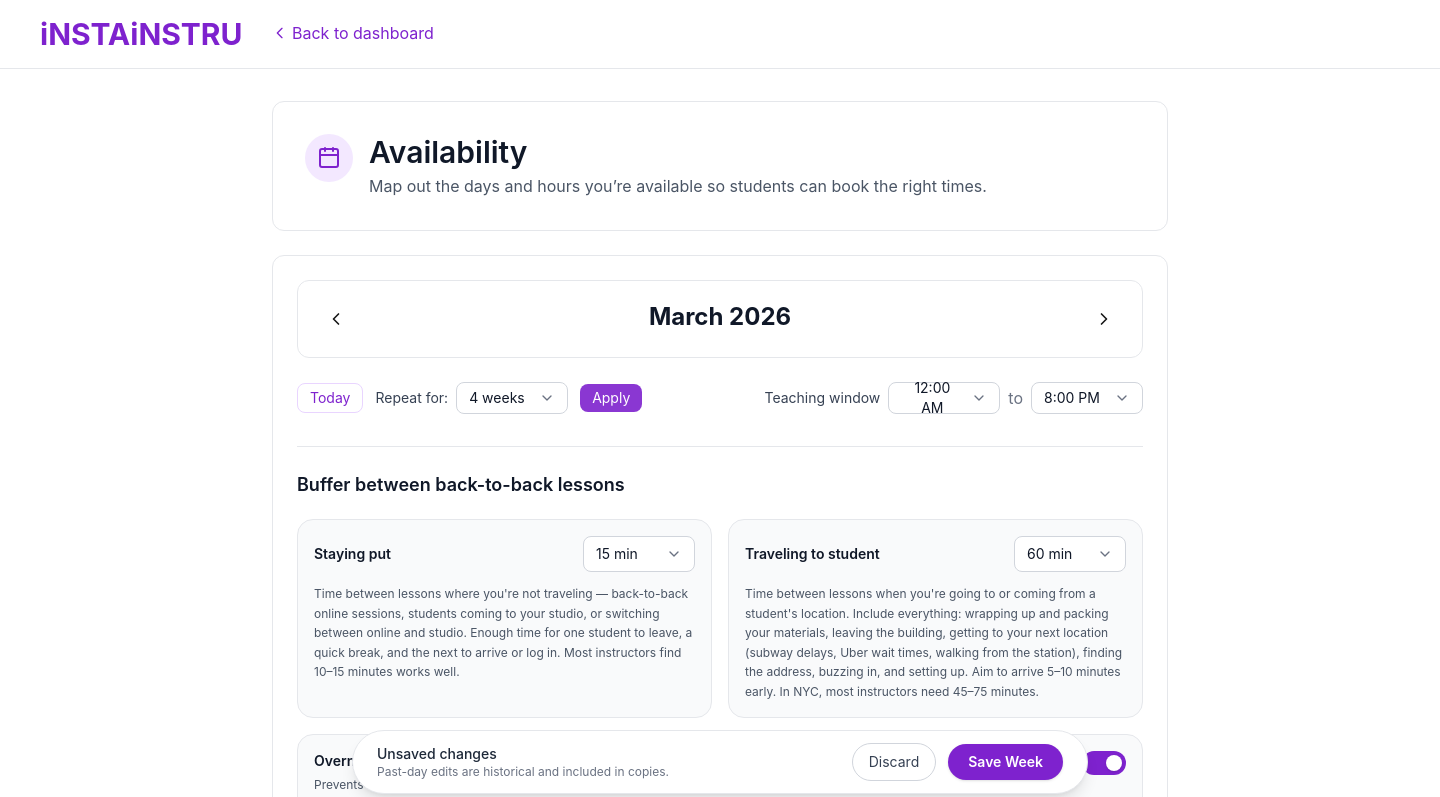
Test: InstructorAvailabilityPage › auto-saves the full settings payload after debounced edits and collapses rapid changes
Click the dropdown named "Staying put buffer".
click(639, 554)  # box 583,536 -> 695,572
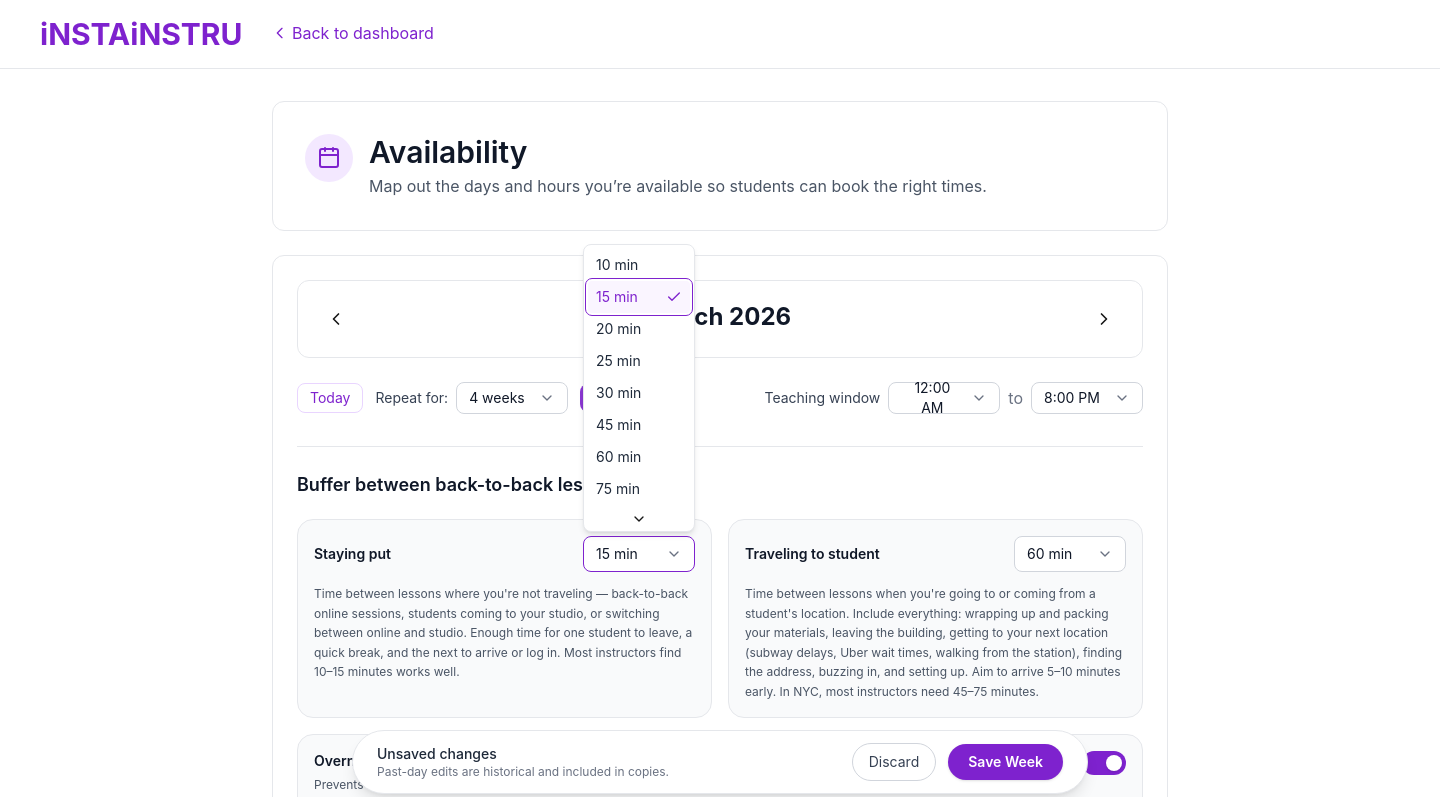
Click the option "30 min".
click(619, 392)  # box 596,384 -> 641,401
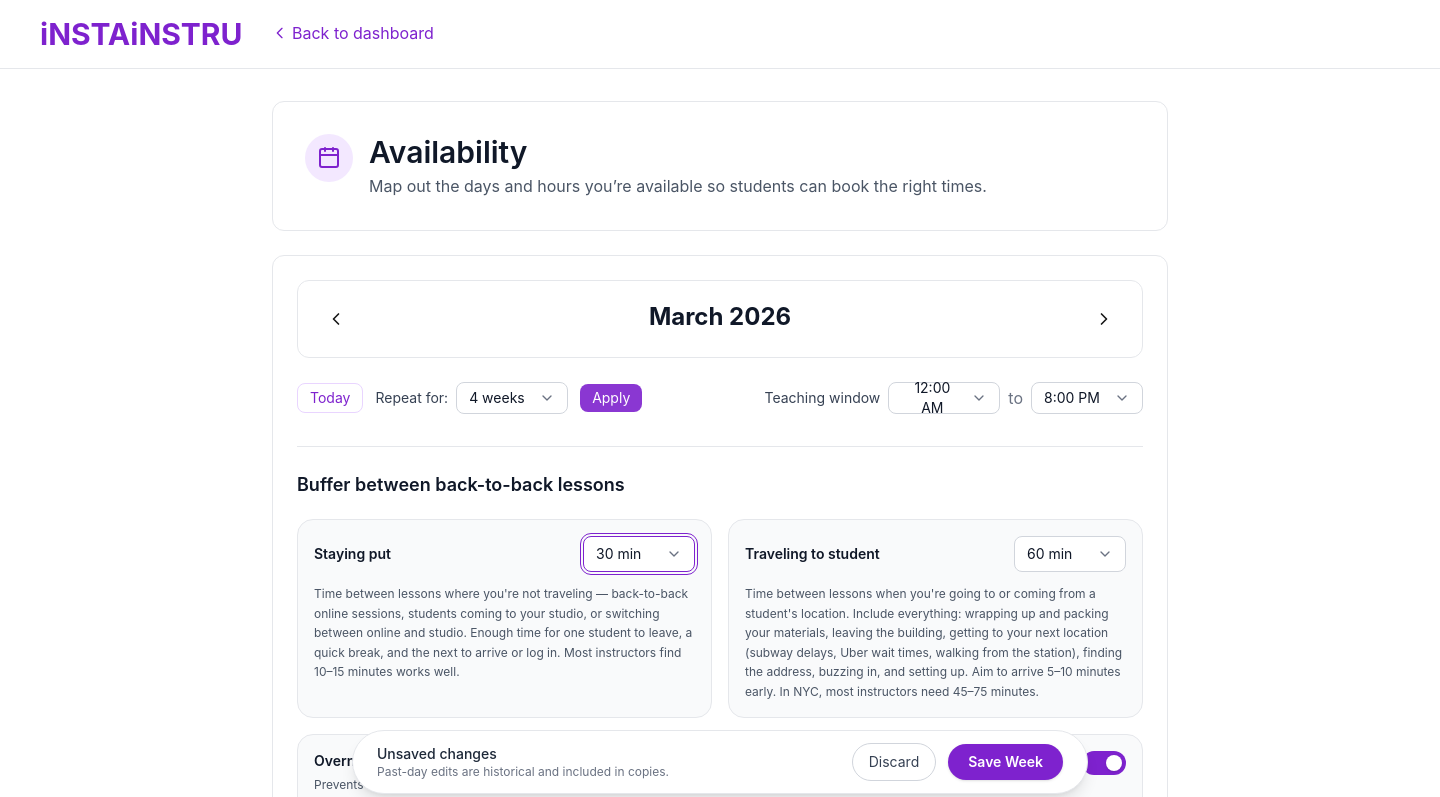
Click the dropdown named "Traveling to student buffer".
click(1070, 554)  # box 1014,536 -> 1126,572
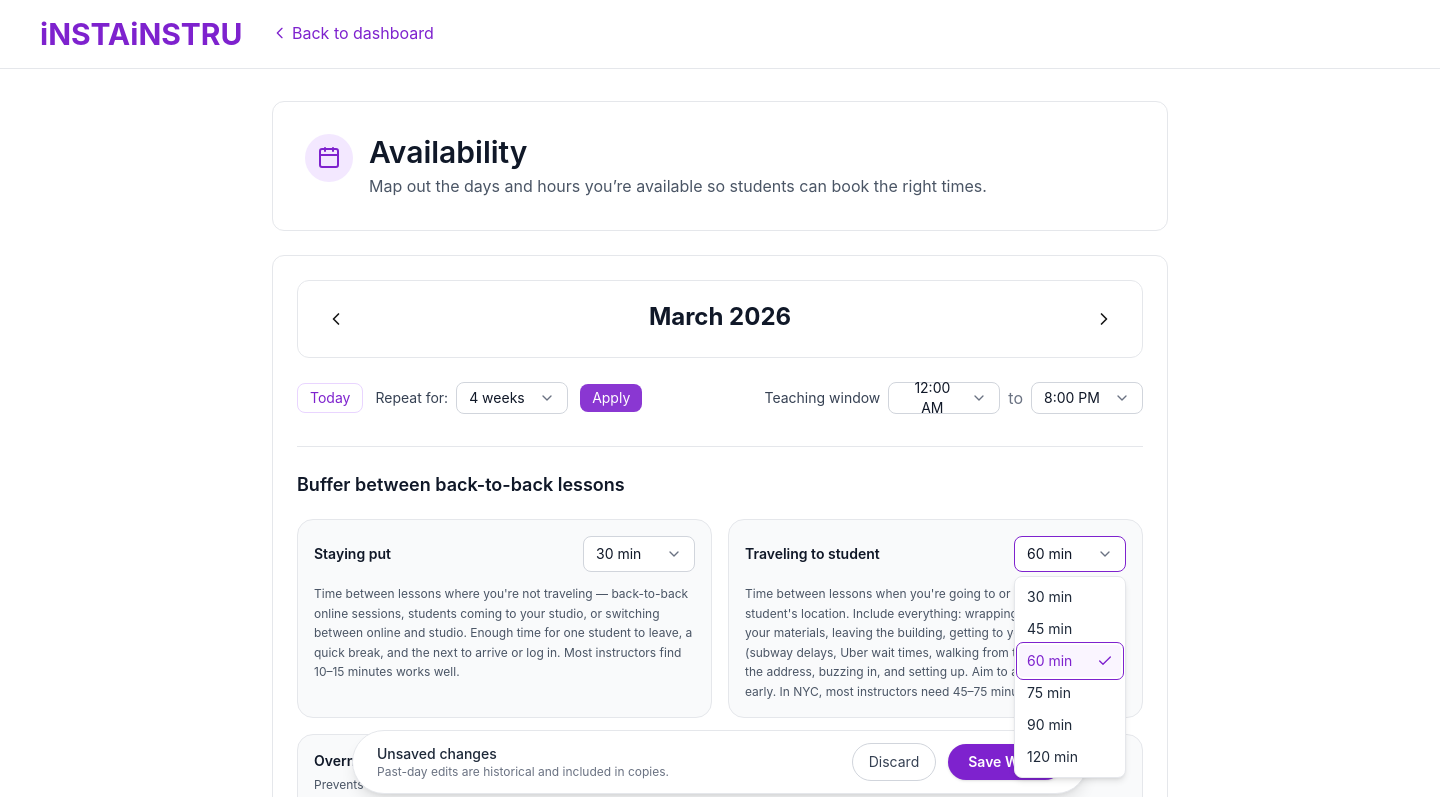
Click the option "90 min".
click(1050, 724)  # box 1027,716 -> 1072,733
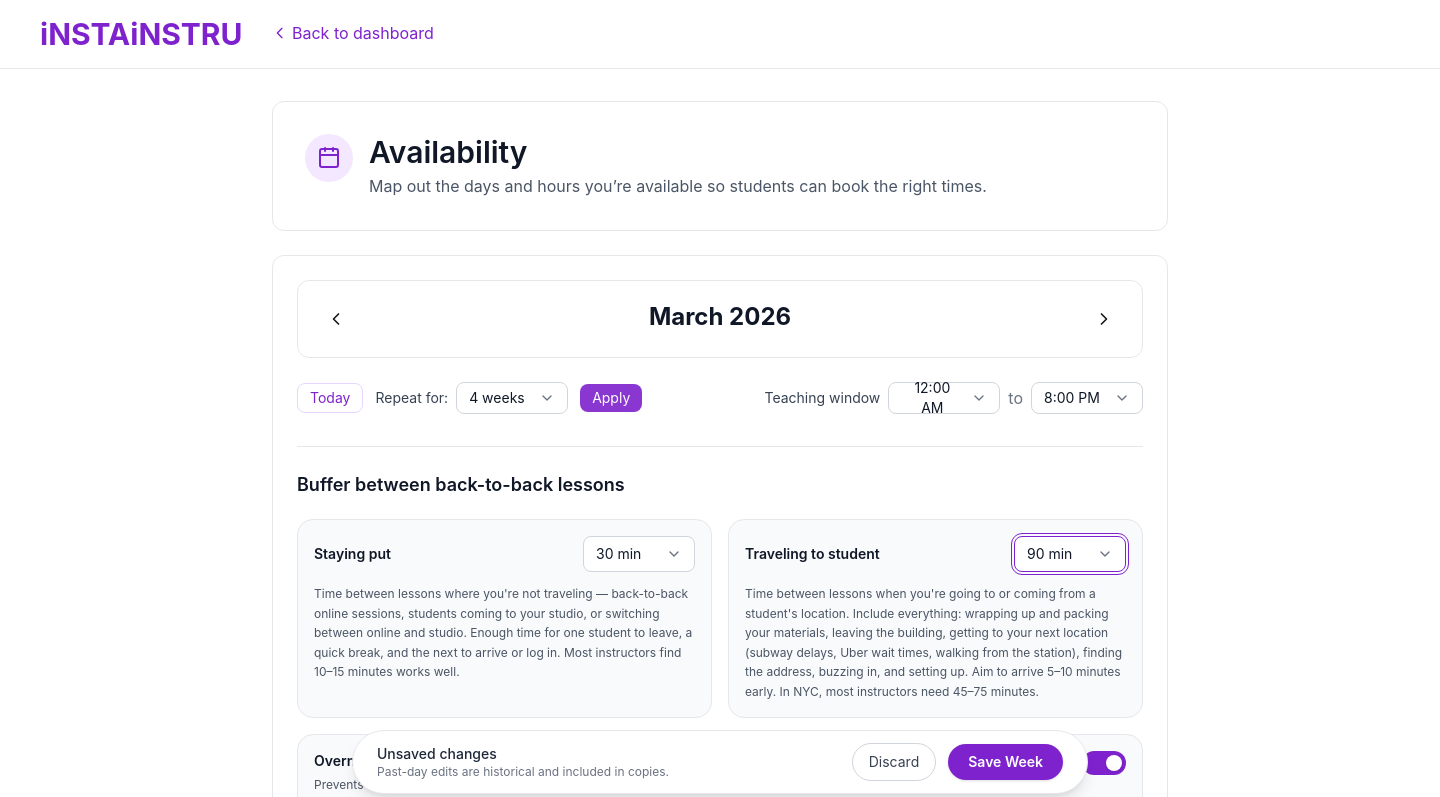
Click the switch named "Overnight booking protection".
click(1104, 763)  # box 1082,751 -> 1126,775
Wait 1200 ms
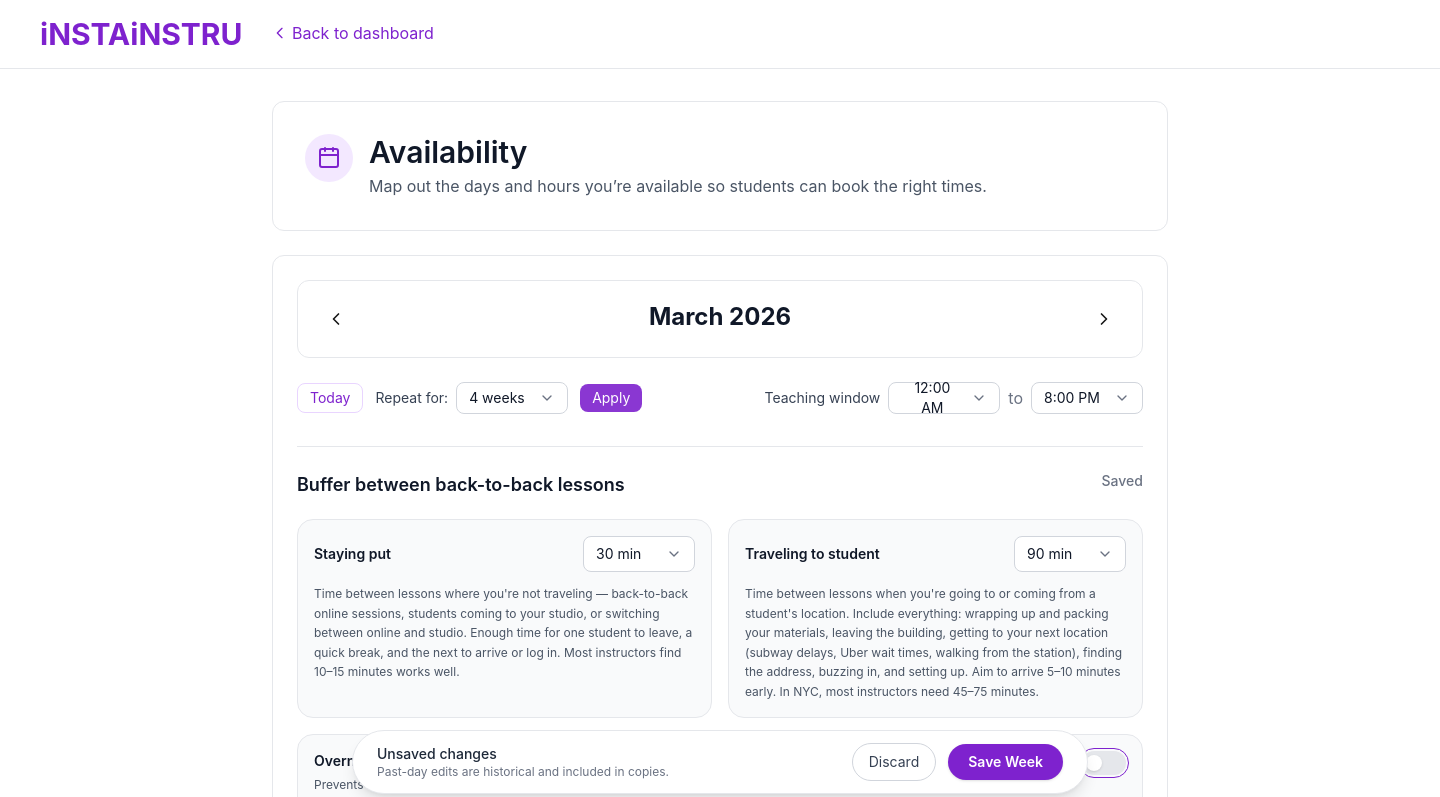
Expected: the text with test id "calendar-settings-save-state" reads "Saved", 1102,472 -> 1143,489
